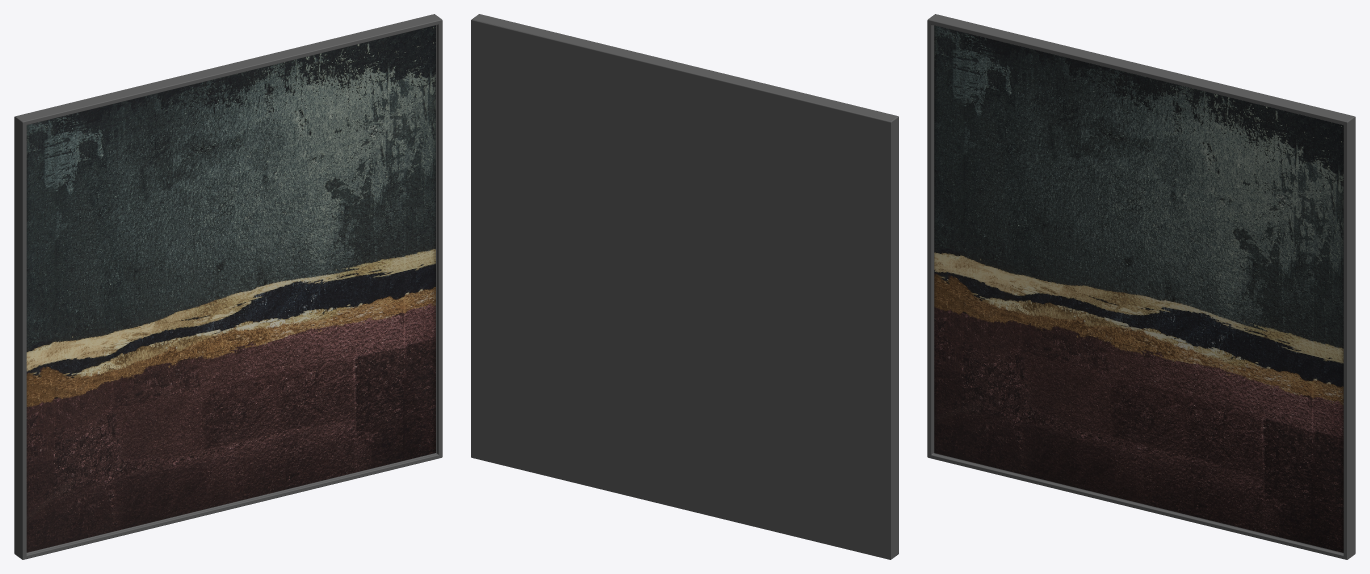
Rendered from Decor_1.glb.
3 views of the same model, side by side, from view 1: azimuth 30°, elevation 25°; view 2: azimuth 150°, elevation 25°; view 3: azimuth 330°, elevation 25° (orthographic).
Parts seen in each view (by area): view 1: 3DSMeshMatrix; view 2: 3DSMeshMatrix; view 3: 3DSMeshMatrix.
Boxes of the visible parts, left/top/right/bottom form: 3DSMeshMatrix: left=14, top=14, right=442, bottom=559; 3DSMeshMatrix: left=471, top=14, right=898, bottom=559; 3DSMeshMatrix: left=927, top=14, right=1355, bottom=559.
Size of the model in its own units: 610 by 608 by 20.23.
Materials: 2 (1 with a texture image).
